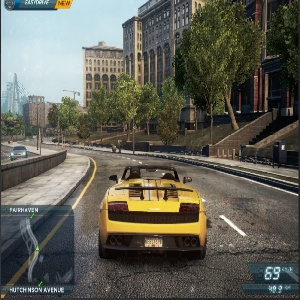building: (123, 10, 208, 131), (82, 40, 132, 138), (20, 96, 48, 136)
garbage: (112, 137, 126, 155)
mailbox: (272, 138, 288, 167)
tree: (178, 24, 259, 136), (94, 79, 147, 141), (147, 79, 181, 146), (48, 101, 82, 139), (2, 110, 25, 137)
vehicle: (10, 146, 26, 162)
